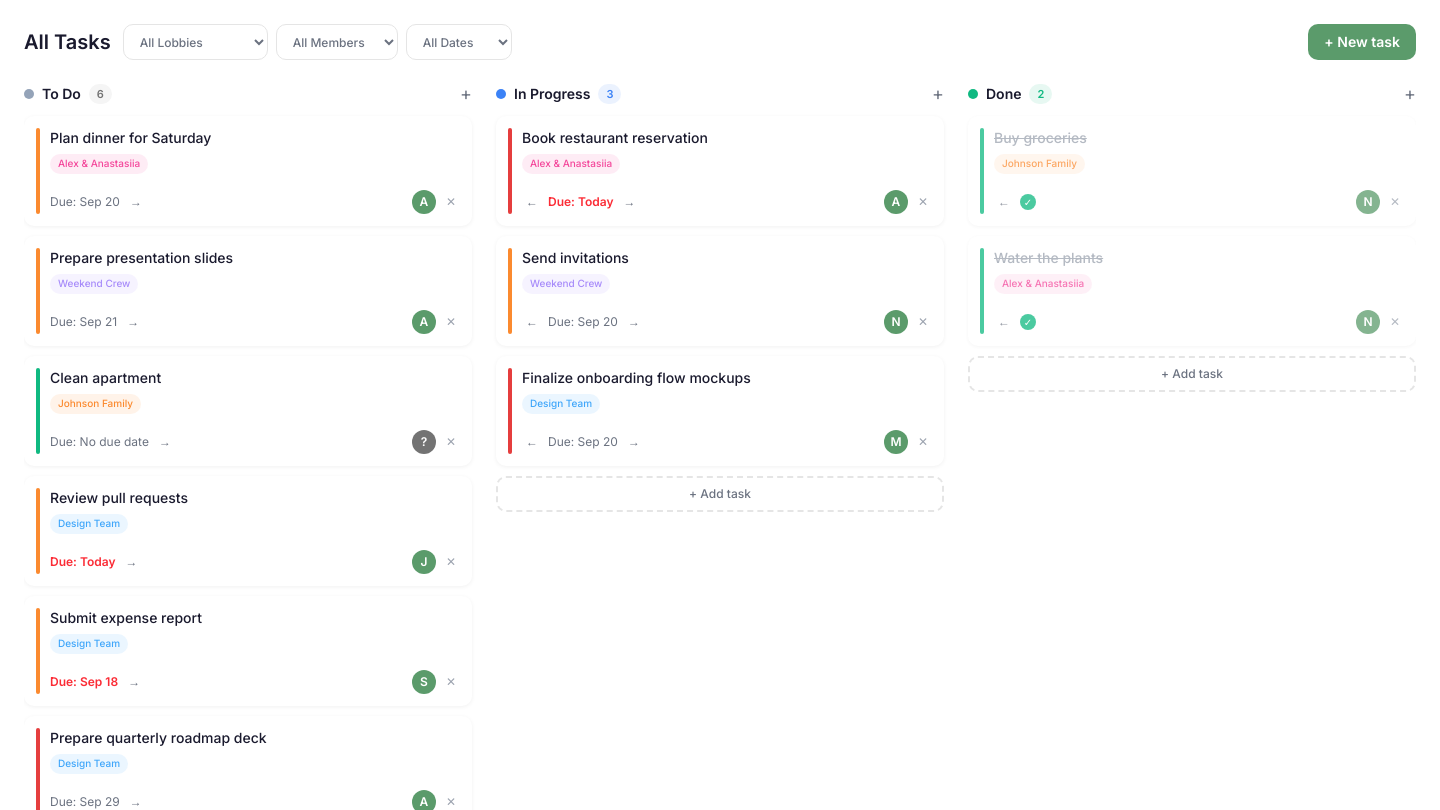
Test: KanbanBoard › narrows the board to a single lobby via the lobby filter
Check: the text "Plan dinner for Saturday" is shown, box [50,129,211,146]
Select "Weekend Crew" in the dropdown named "Filter by lobby" at (195, 42), box [123,24,268,60]
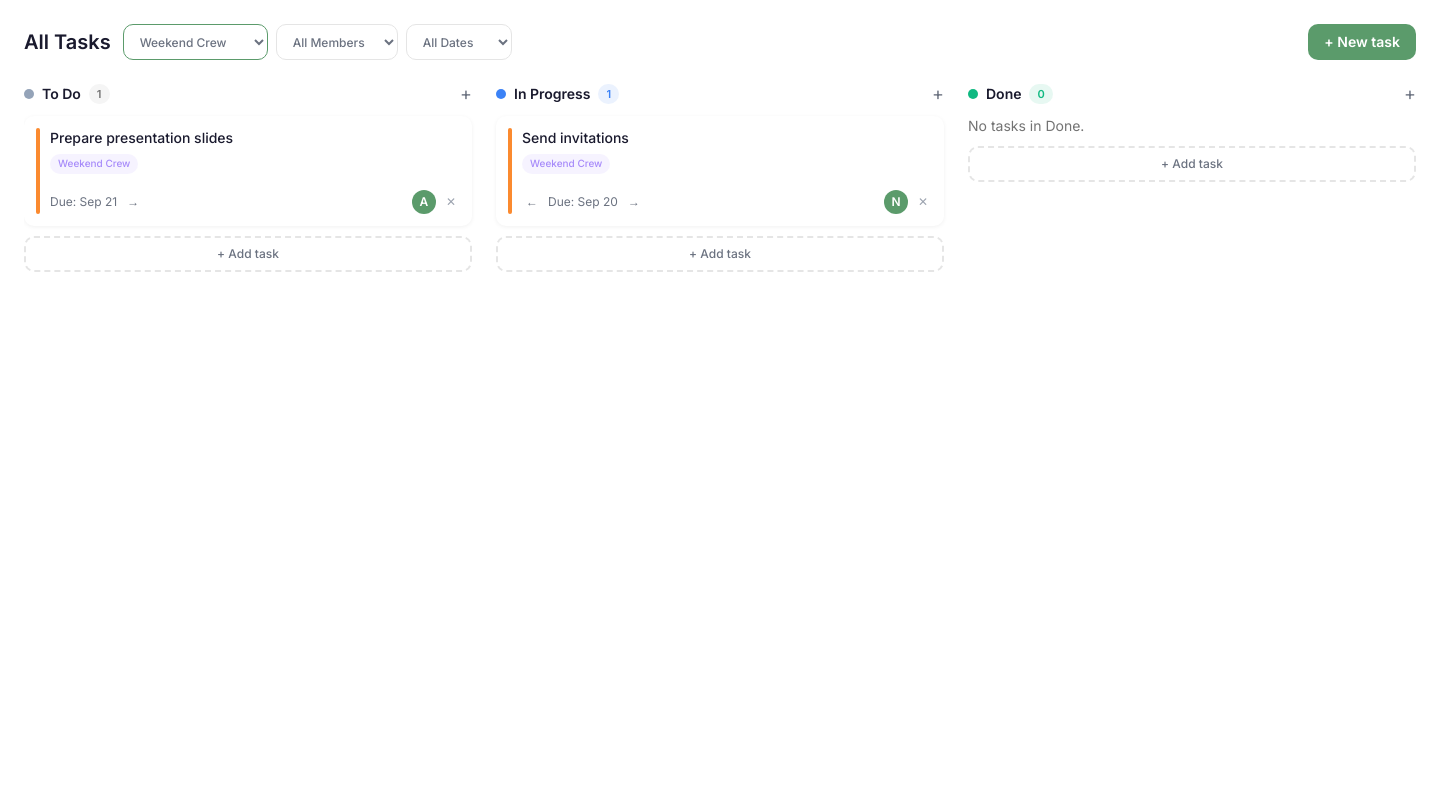
Check: the text "Prepare presentation slides" is shown, box [50,129,233,146]
Check: the button "Plan dinner for Saturday" is gone
